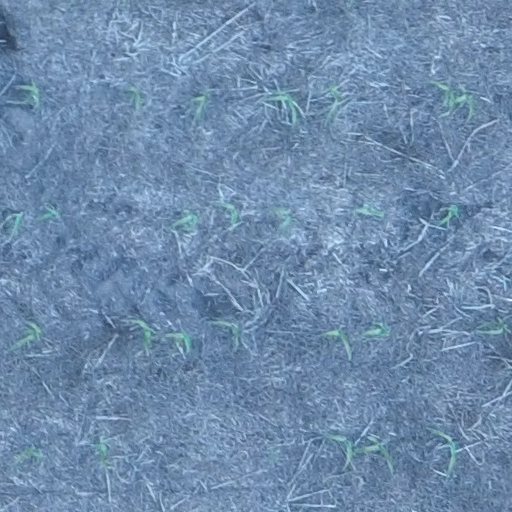planta: (429, 428, 458, 475), (268, 87, 300, 125), (326, 432, 355, 472), (361, 437, 395, 469), (324, 327, 352, 361), (12, 320, 43, 350), (448, 92, 476, 120), (130, 318, 154, 348), (13, 82, 41, 107), (325, 83, 342, 123), (271, 205, 294, 233), (164, 331, 192, 352), (15, 445, 43, 464), (215, 319, 240, 340), (479, 319, 509, 336), (362, 321, 391, 338), (4, 213, 22, 240), (439, 204, 461, 226), (434, 81, 455, 104), (125, 86, 144, 110), (192, 94, 209, 120), (90, 442, 107, 468), (174, 212, 199, 229), (220, 203, 239, 225), (38, 205, 58, 221), (357, 205, 382, 217)
